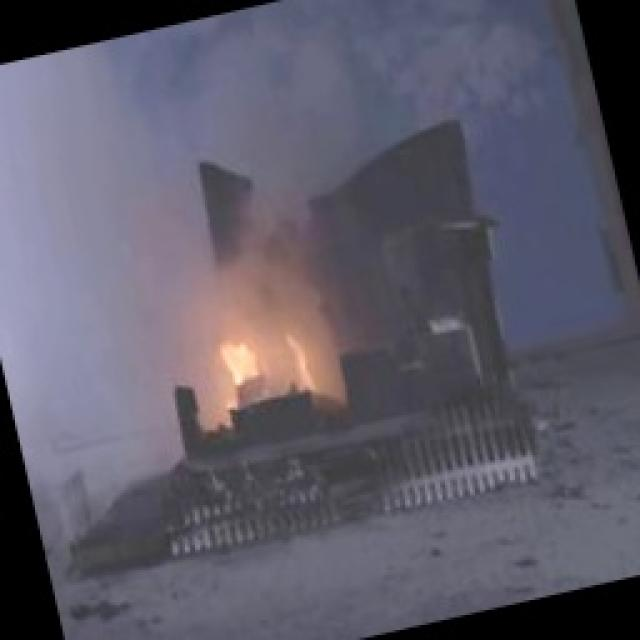fire: (159, 235, 341, 440)
smoke: (0, 0, 428, 355)
